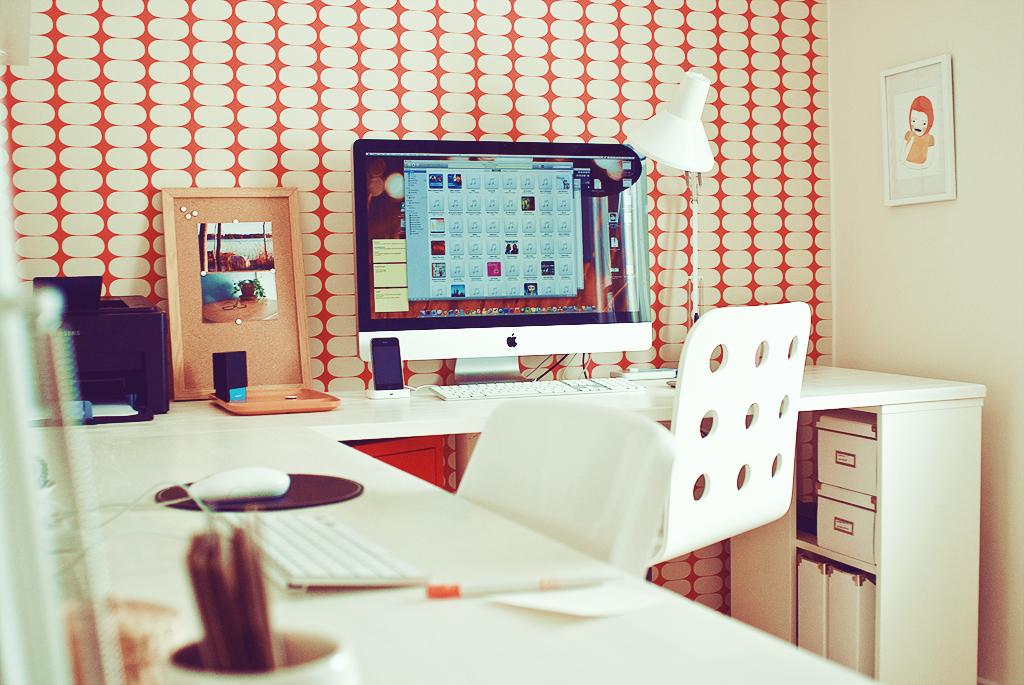computer: (352, 139, 654, 402)
